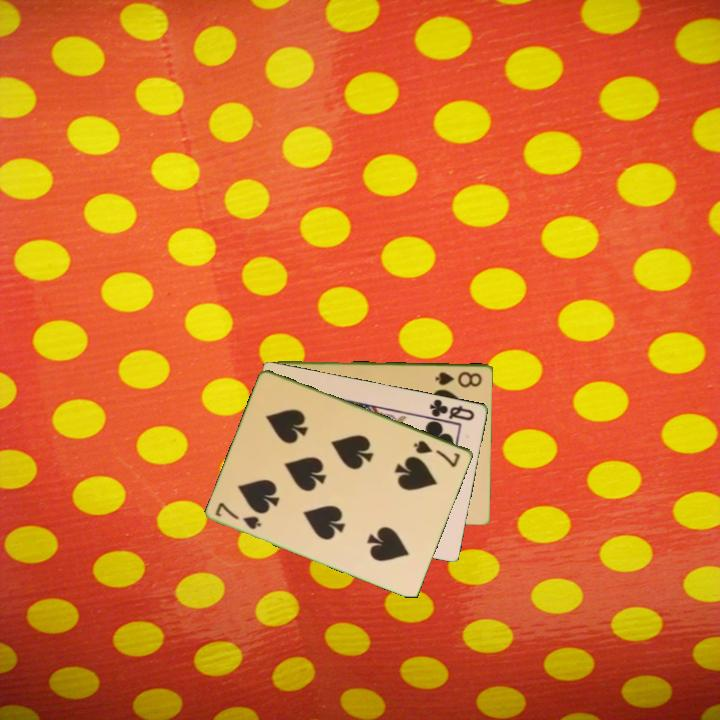7s: (410, 437, 464, 470), (212, 498, 264, 532)
8s: (432, 368, 485, 389)
Qc: (423, 395, 478, 426)
